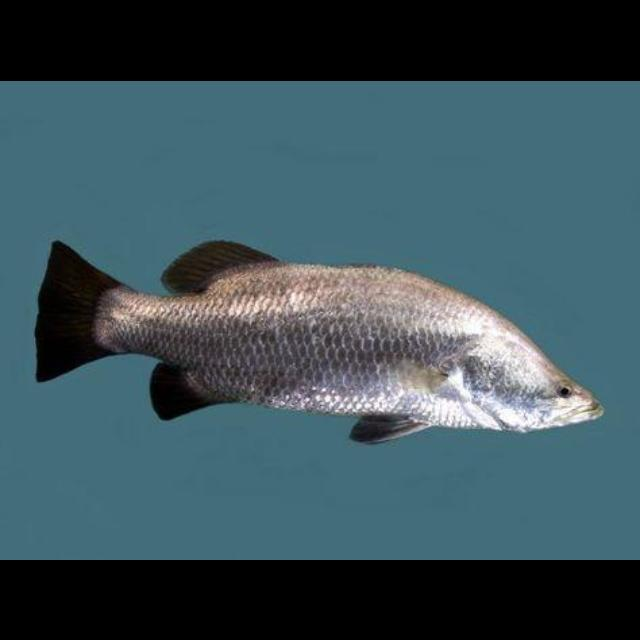Seabass: (34, 238, 602, 444)
